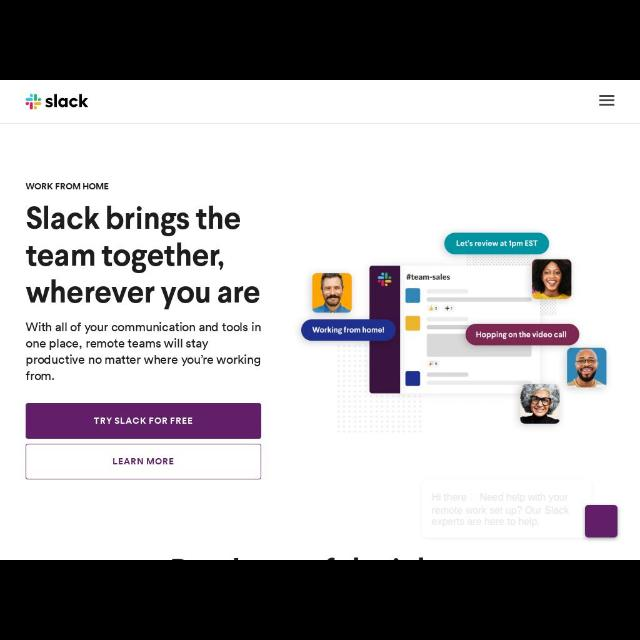icon: (598, 94, 616, 106)
image: (520, 384, 562, 424), (568, 348, 606, 389), (313, 274, 351, 312), (533, 260, 571, 298), (24, 94, 90, 110), (376, 273, 392, 287)
text: (25, 206, 261, 310), (26, 322, 262, 382), (431, 492, 569, 528), (476, 330, 566, 340), (25, 182, 109, 192), (93, 417, 193, 425), (454, 240, 538, 248), (312, 327, 384, 335), (112, 457, 174, 465), (406, 274, 452, 280)
textbutton: (27, 404, 262, 440), (27, 443, 262, 479)
